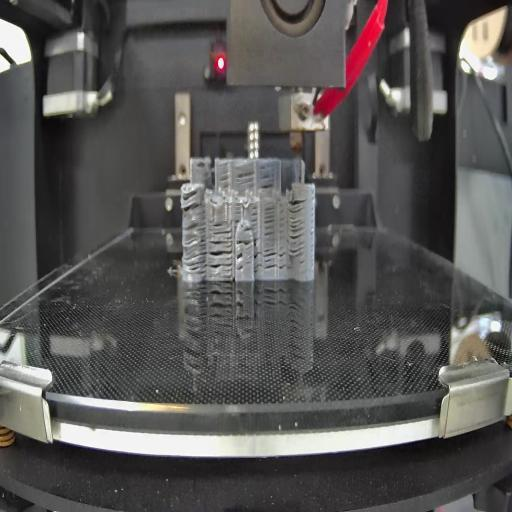cracks: (181, 222, 206, 276), (208, 240, 233, 278), (290, 200, 306, 256), (180, 189, 202, 213), (259, 165, 275, 191), (264, 205, 275, 240), (264, 249, 278, 272), (212, 224, 231, 240), (254, 238, 261, 274), (237, 171, 255, 185), (236, 236, 253, 247), (235, 252, 244, 272), (219, 172, 231, 186), (249, 206, 258, 224), (279, 249, 286, 270), (234, 205, 240, 224), (243, 224, 252, 232)
